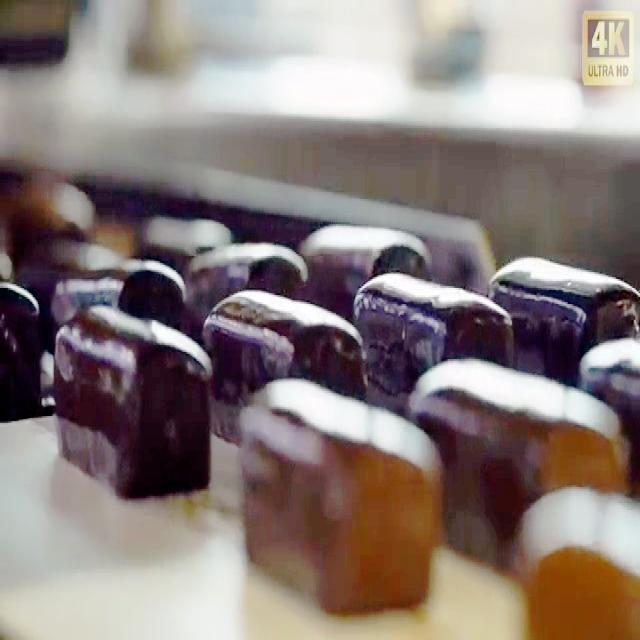Choco: (236, 373, 444, 615), (413, 342, 624, 560), (51, 298, 212, 498), (492, 241, 640, 407), (352, 265, 514, 398), (202, 283, 367, 400), (302, 214, 428, 320), (54, 260, 196, 347), (192, 237, 304, 320), (4, 266, 46, 416)
